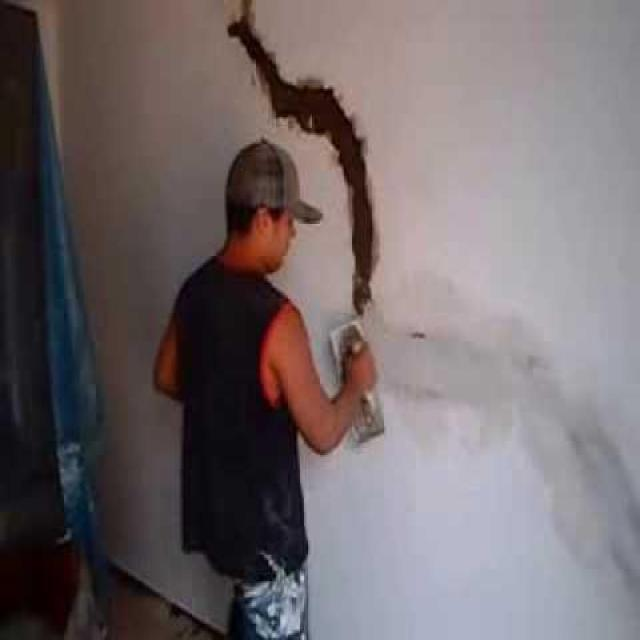crack: (229, 12, 380, 315)
